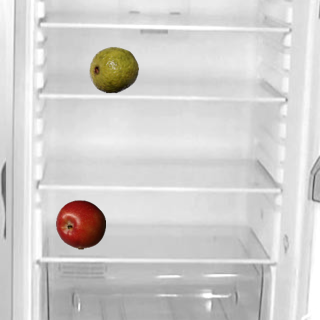Apple Braeburn: (55, 199, 105, 249)
Guava: (88, 44, 138, 94)
